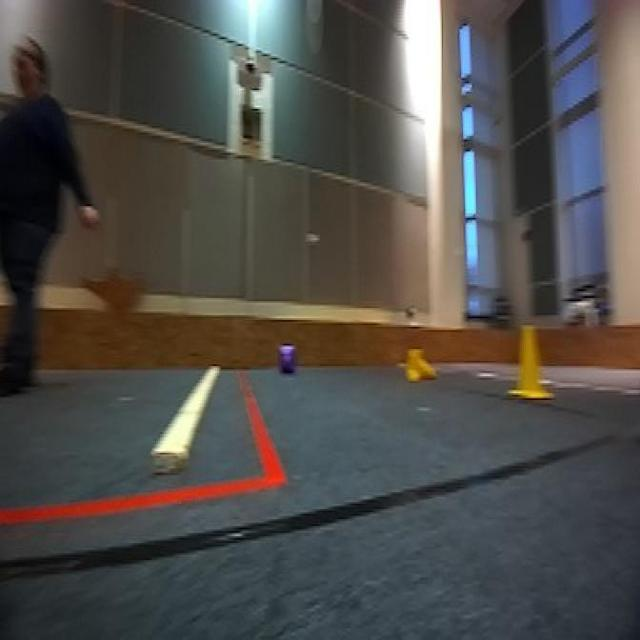frc_cone: (508, 322, 548, 407), (402, 346, 435, 383)
frc_cube: (275, 344, 297, 378)
